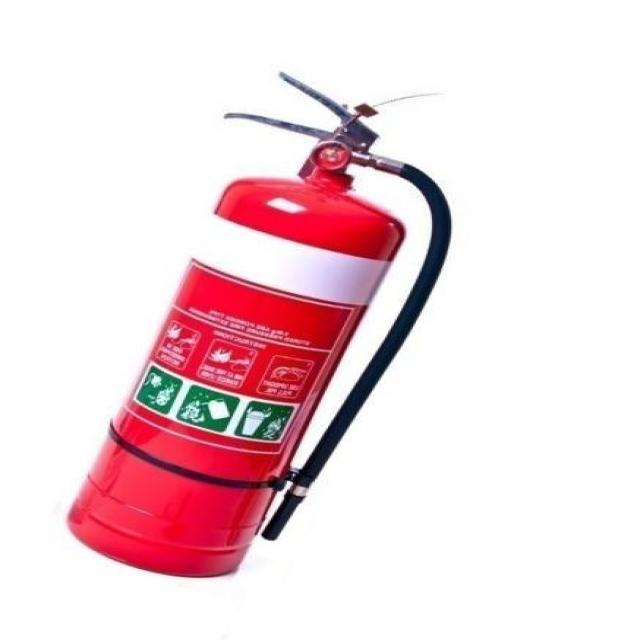fire_extinguisher: (54, 61, 456, 582)
